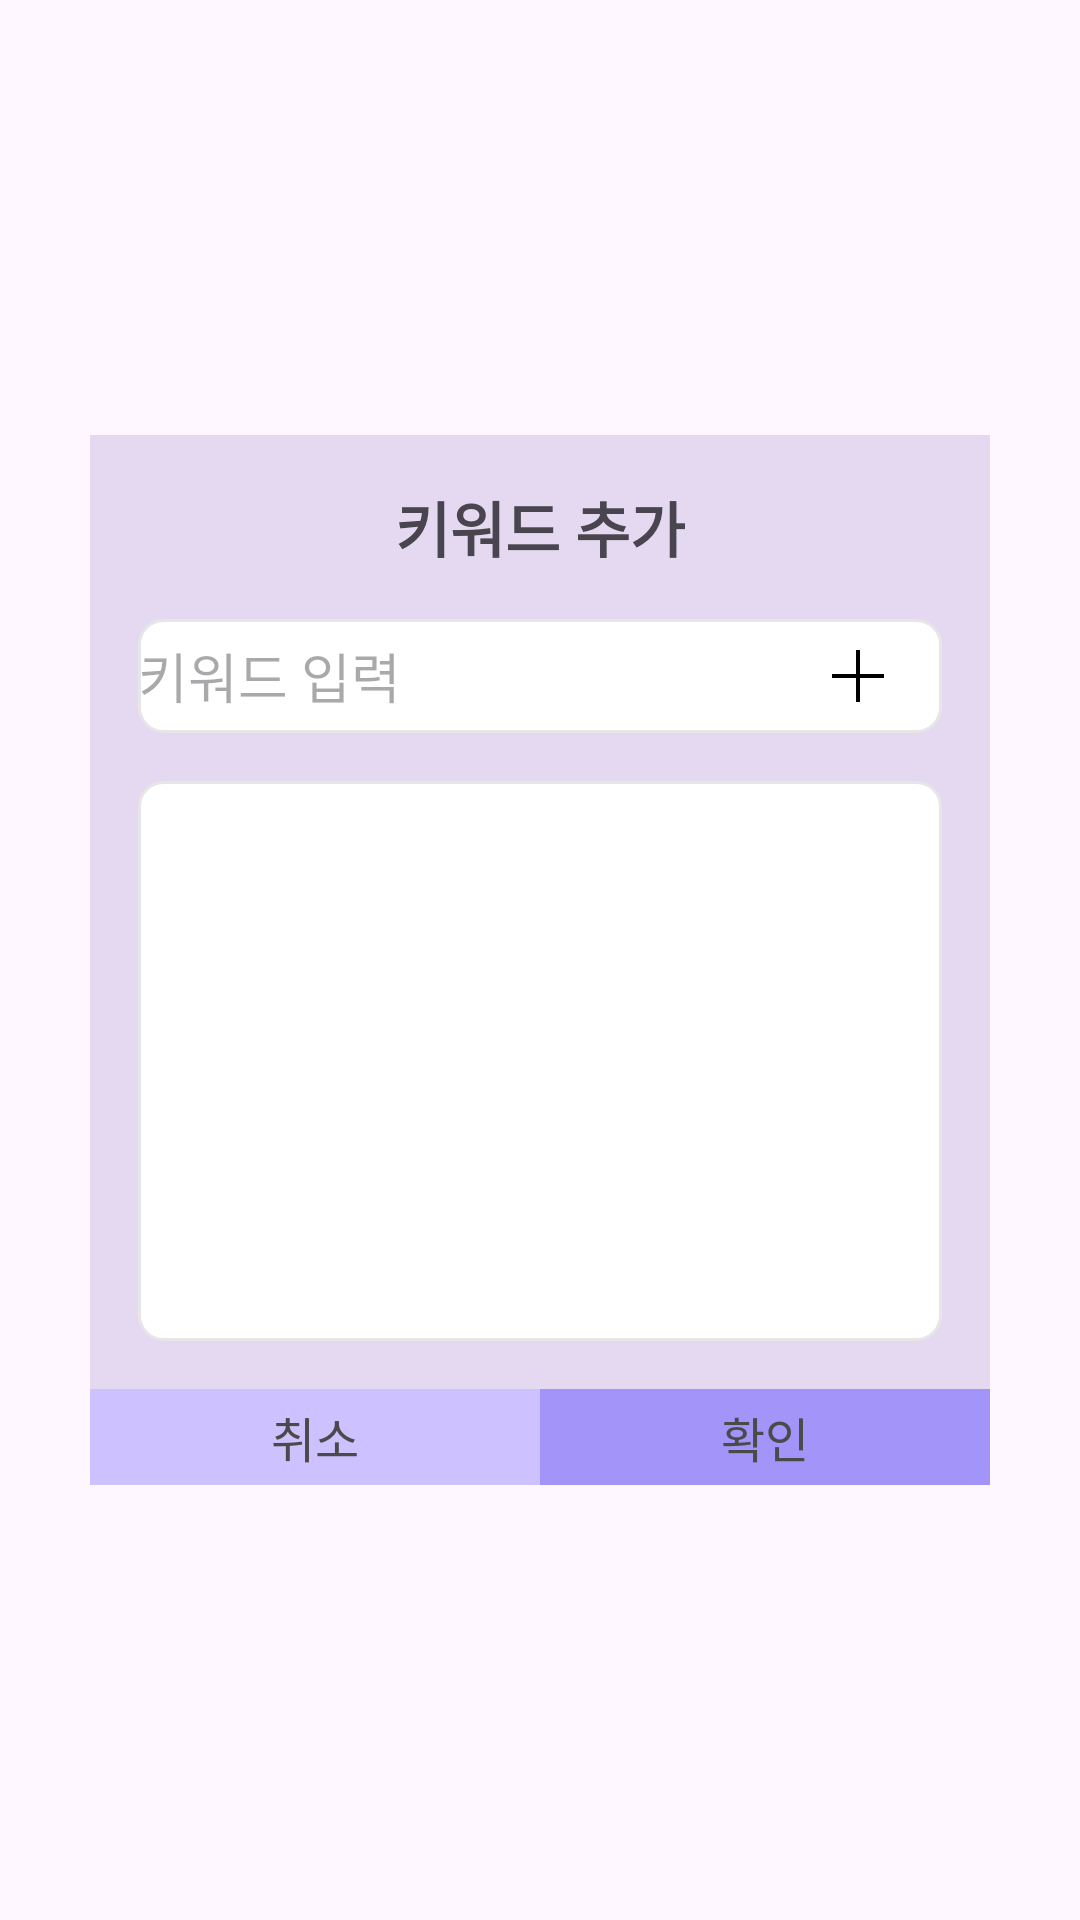

Icon click points for this 1080×1920 phone screenshot, format (x=x, y=y):
keyword add: (x=858, y=676)
